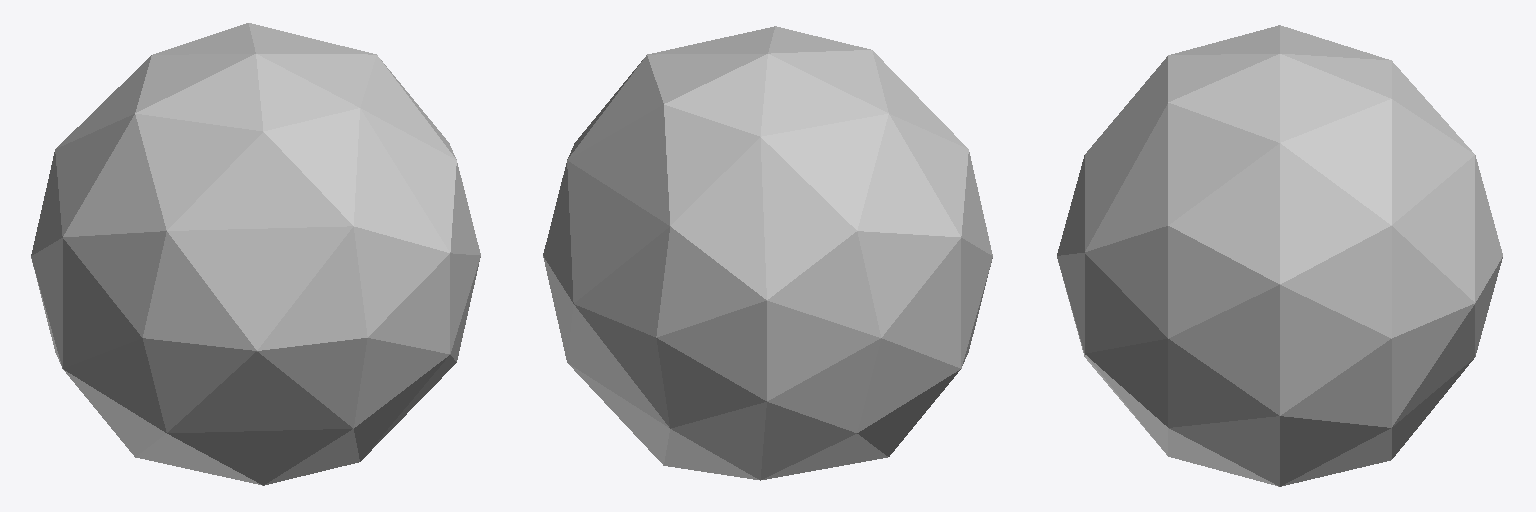
The model's file is base_ball.obj.
The picture shows the model from 3 angles: view 1: azimuth 30°, elevation 25°; view 2: azimuth 150°, elevation 25°; view 3: azimuth 270°, elevation 25°; orthographic projection.
Visible parts, largest first — view 1: Icosphere; view 2: Icosphere; view 3: Icosphere.
Part boxes in pixels (x1,y1,x2,y2): Icosphere: (31, 23, 480, 485); Icosphere: (543, 26, 992, 480); Icosphere: (1057, 25, 1502, 486).
Bounding box in the file's own units: 16 × 16 × 16.